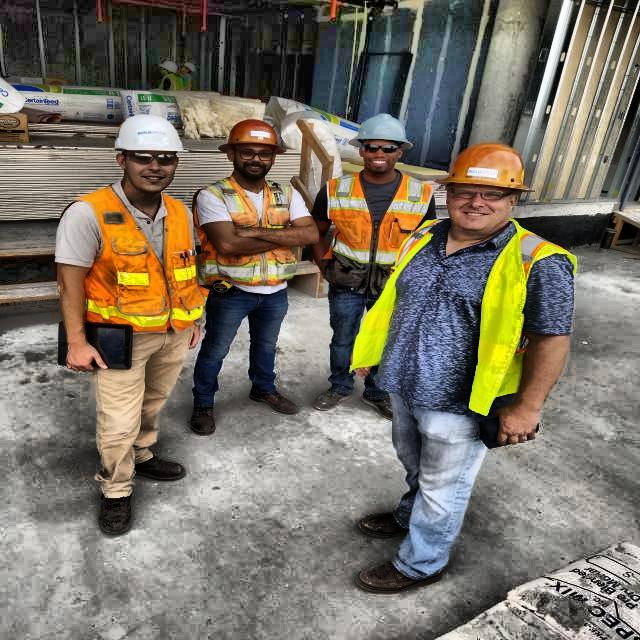person: (396, 135, 580, 594), (45, 104, 206, 544), (194, 113, 322, 434), (306, 108, 440, 402)
